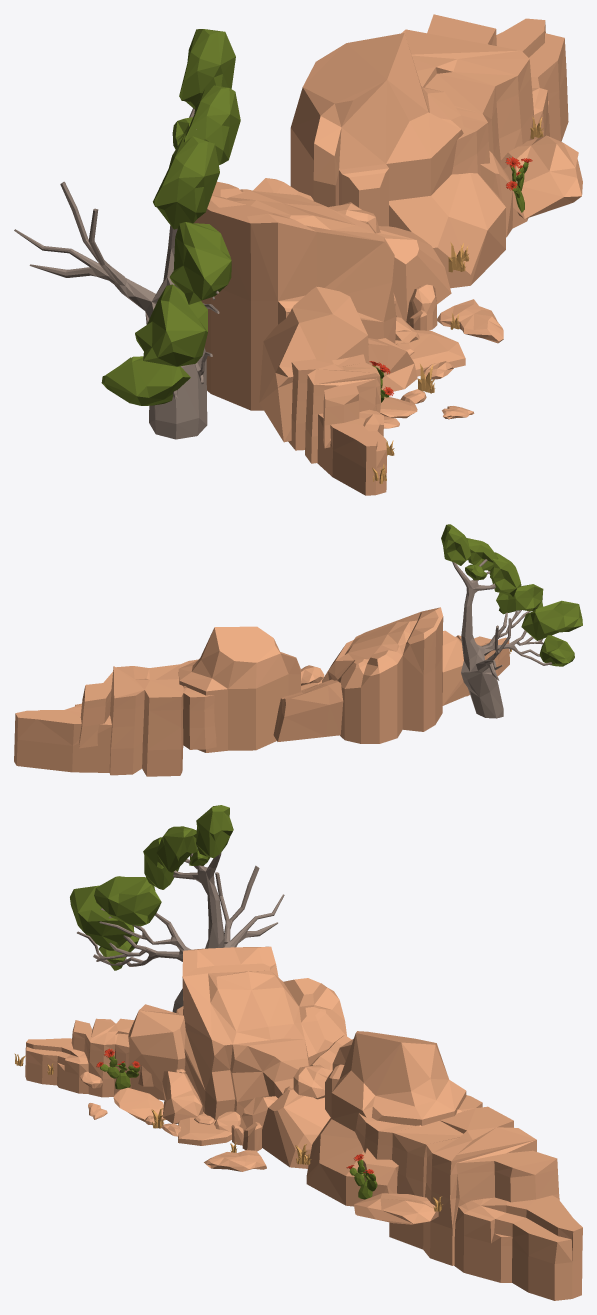
Rendered from Desert_land.fbx.
3 renders of one model, top to bottom at view 1: azimuth 30°, elevation 25°; view 2: azimuth 150°, elevation 25°; view 3: azimuth 270°, elevation 25°, orthographic. The views are drawn at different scales.
Parts seen in each view (by area): view 1: Cube, tree_alive, Plane.020, Plane.021, rocks, rock, rocks.004, rocks.001; view 2: Cube, Plane.020, tree_alive, Plane.021, rocks; view 3: Cube, Plane.020, tree_alive, Plane.021, rock, rocks, rocks.001, rocks.004, Sphere.001.
Part boxes in pixels (x1,y1,x2,y2): Cube: (194,33,512,442); tree_alive: (14,29,240,439); Plane.020: (401,14,568,228); Plane.021: (288,354,386,495); rocks: (328,135,582,343); rock: (375,226,465,376); rocks.004: (384,361,474,428); rocks.001: (380,397,417,418); Cube: (178,607,469,752); Plane.020: (14,659,216,776); tree_alive: (441,524,582,718); Plane.021: (455,635,509,696); rocks: (301,665,324,685); Cube: (128,946,466,1206); Plane.020: (355,1095,582,1300); tree_alive: (70,805,284,1012); Plane.021: (25,1018,153,1097); rock: (178,1087,330,1168); rocks: (204,1064,438,1224); rocks.001: (113,1069,293,1122); rocks.004: (80,1071,180,1136); Sphere.001: (100,1055,139,1089).
Bounding box in the file's own units: 41.22 × 21.57 × 37.57.
